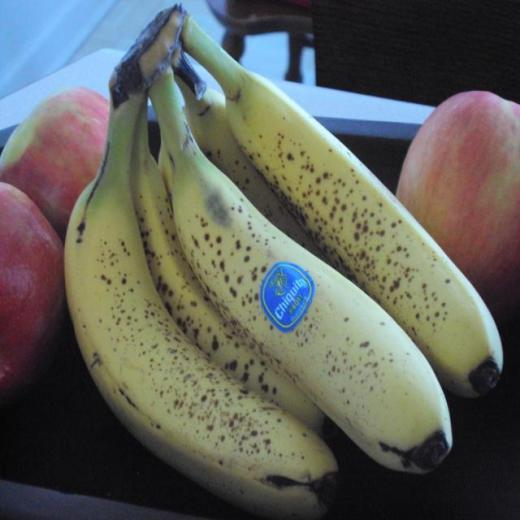Banana: (61, 2, 505, 520)
